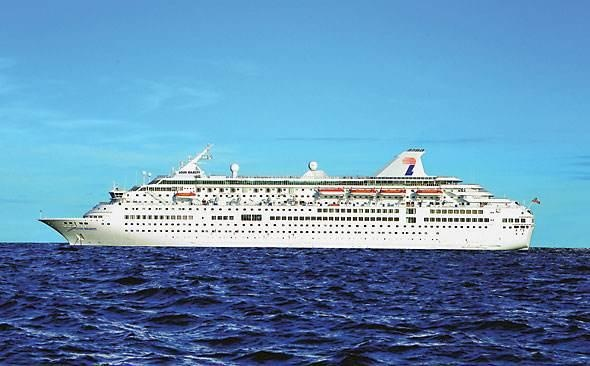youlun: (32, 140, 544, 255)
